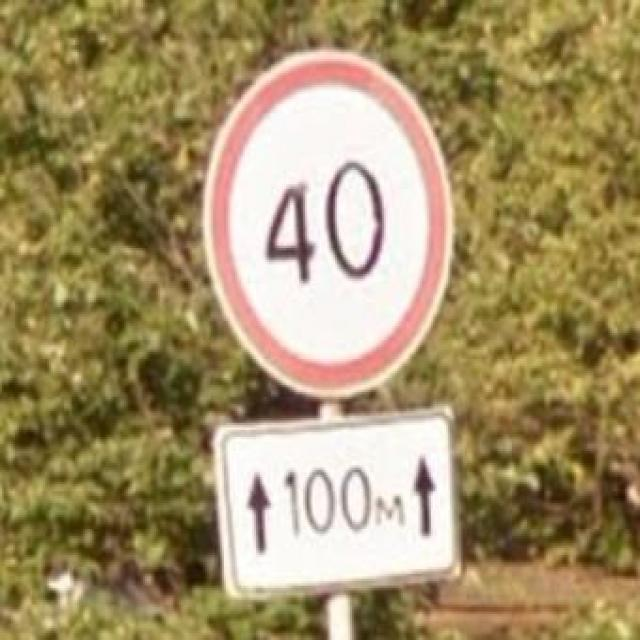speed_limit_40: (202, 49, 458, 402)
